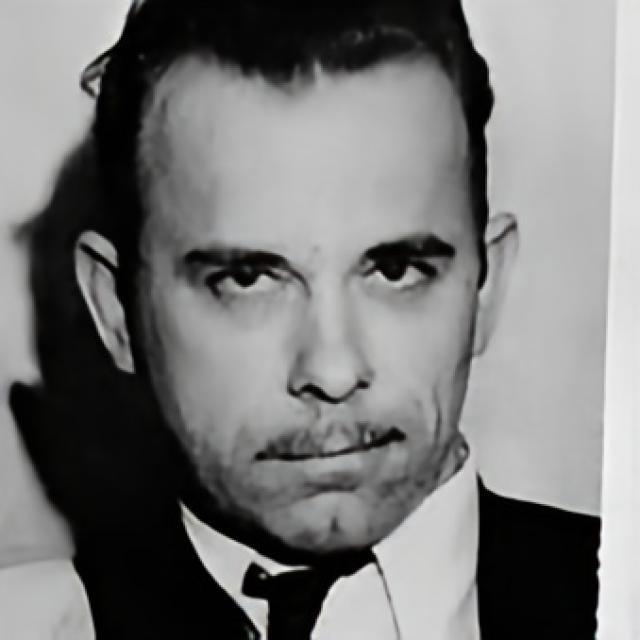neutral: (140, 35, 478, 553)
